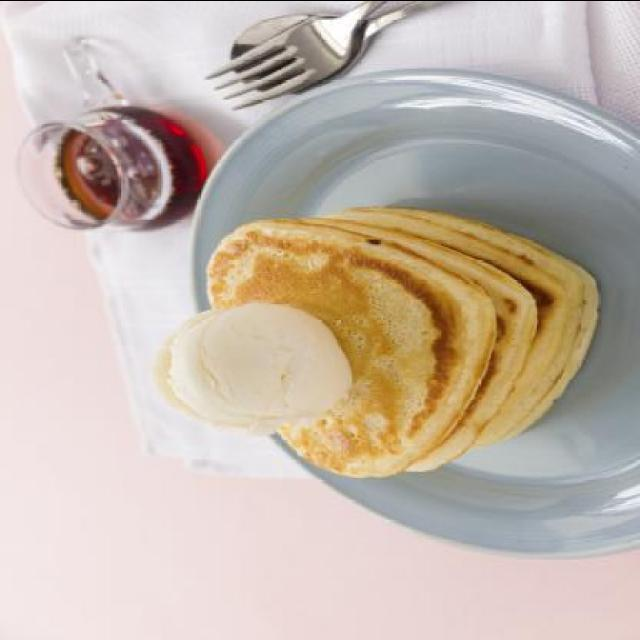Pancake: (302, 207, 604, 476), (210, 223, 496, 477)
